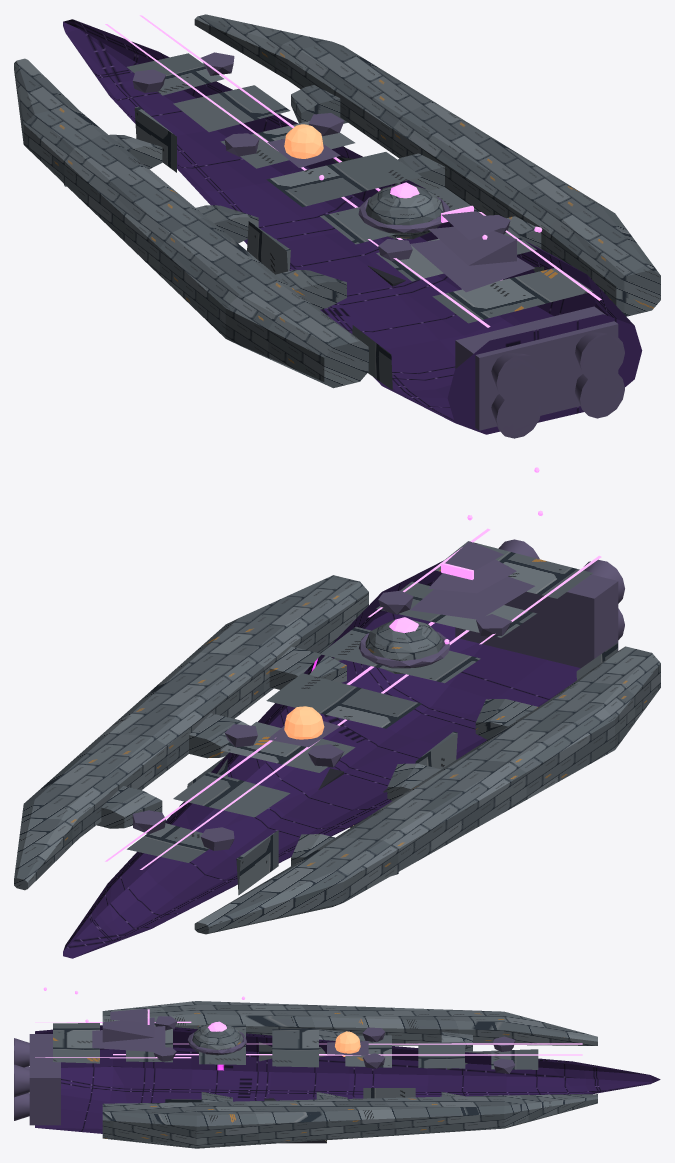
The model's file is ravager_lod1.glb.
3 renders of one model, top to bottom at view 1: azimuth 30°, elevation 25°; view 2: azimuth 150°, elevation 25°; view 3: azimuth 270°, elevation 25°, orthographic. The views are drawn at different scales.
Visible parts, largest first — view 1: Port and starboard galleries, Hull, ArmorPlates, EngineBlock, Bridge, TurretBases, ShieldDome, EnergyStrips, Core, ShieldRing, CoreGrille; view 2: Port and starboard galleries, Hull, ArmorPlates, EngineBlock, Bridge, TurretBases, ShieldDome, EnergyStrips, Core, ShieldRing; view 3: Port and starboard galleries, Hull, ArmorPlates, EngineBlock, Bridge, TurretBases, EnergyStrips, ShieldDome, Core, ShieldRing, CoreGrille.
Boxes of the visible parts, x1=… form: Port and starboard galleries: x1=14, y1=14, x2=660, y2=388; Hull: x1=63, y1=19, x2=642, y2=434; ArmorPlates: x1=127, y1=53, x2=592, y2=389; EngineBlock: x1=455, y1=306, x2=624, y2=438; Bridge: x1=410, y1=211, x2=534, y2=292; TurretBases: x1=132, y1=52, x2=510, y2=260; ShieldDome: x1=365, y1=184, x2=443, y2=239; EnergyStrips: x1=105, y1=15, x2=601, y2=327; Core: x1=284, y1=124, x2=323, y2=158; ShieldRing: x1=358, y1=197, x2=449, y2=232; CoreGrille: x1=267, y1=139, x2=340, y2=167; Port and starboard galleries: x1=14, y1=575, x2=660, y2=934; Hull: x1=63, y1=560, x2=580, y2=958; ArmorPlates: x1=127, y1=541, x2=617, y2=895; EngineBlock: x1=455, y1=539, x2=624, y2=667; Bridge: x1=410, y1=541, x2=534, y2=619; TurretBases: x1=132, y1=590, x2=511, y2=850; ShieldDome: x1=365, y1=619, x2=443, y2=673; EnergyStrips: x1=105, y1=528, x2=601, y2=869; Core: x1=284, y1=706, x2=324, y2=739; ShieldRing: x1=359, y1=631, x2=449, y2=667; Port and starboard galleries: x1=102, y1=1001, x2=597, y2=1148; Hull: x1=35, y1=1025, x2=660, y2=1133; ArmorPlates: x1=53, y1=1023, x2=538, y2=1102; EngineBlock: x1=14, y1=1034, x2=60, y2=1125; Bridge: x1=92, y1=1008, x2=165, y2=1051; TurretBases: x1=154, y1=1016, x2=515, y2=1073; EnergyStrips: x1=35, y1=1021, x2=582, y2=1058; ShieldDome: x1=192, y1=1023, x2=243, y2=1055; Core: x1=335, y1=1031, x2=360, y2=1056; ShieldRing: x1=188, y1=1031, x2=246, y2=1054; CoreGrille: x1=327, y1=1041, x2=368, y2=1055.
Bounding box in the file's own units: 56 × 27.41 × 124.
Materials: 7 (2 with a texture image).
